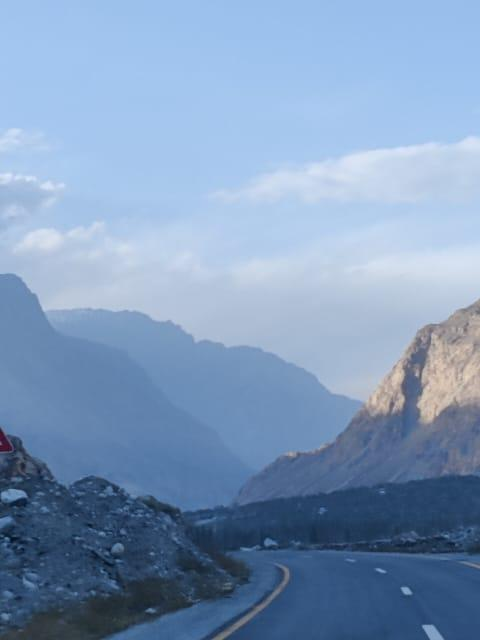left_turn: (228, 499, 415, 590), (0, 377, 18, 450)
